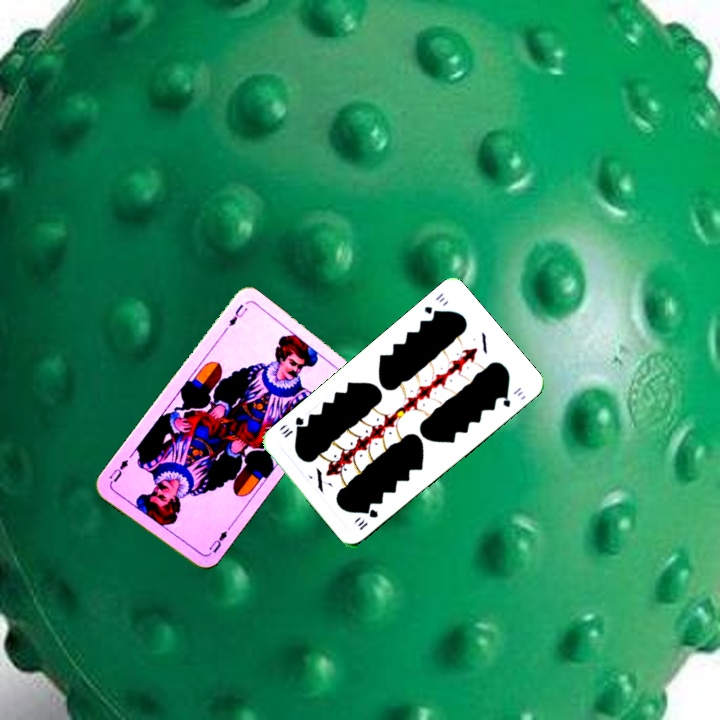EU: (205, 523, 233, 556), (224, 300, 250, 329)
G10: (420, 289, 448, 320), (352, 505, 381, 533)
